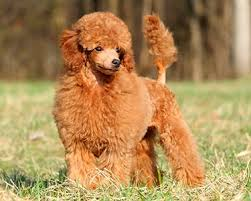Bulldog: (35, 10, 213, 188)
